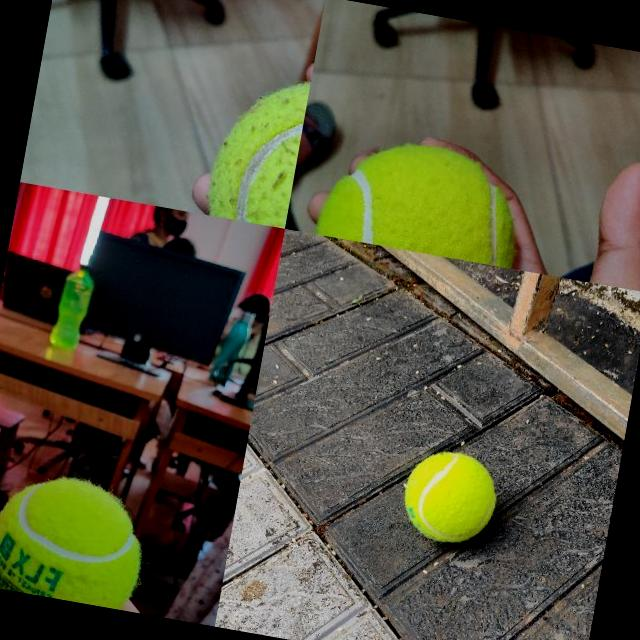Tennis Ball: (316, 128, 530, 268), (0, 465, 154, 611), (204, 66, 310, 228), (396, 444, 504, 552)
